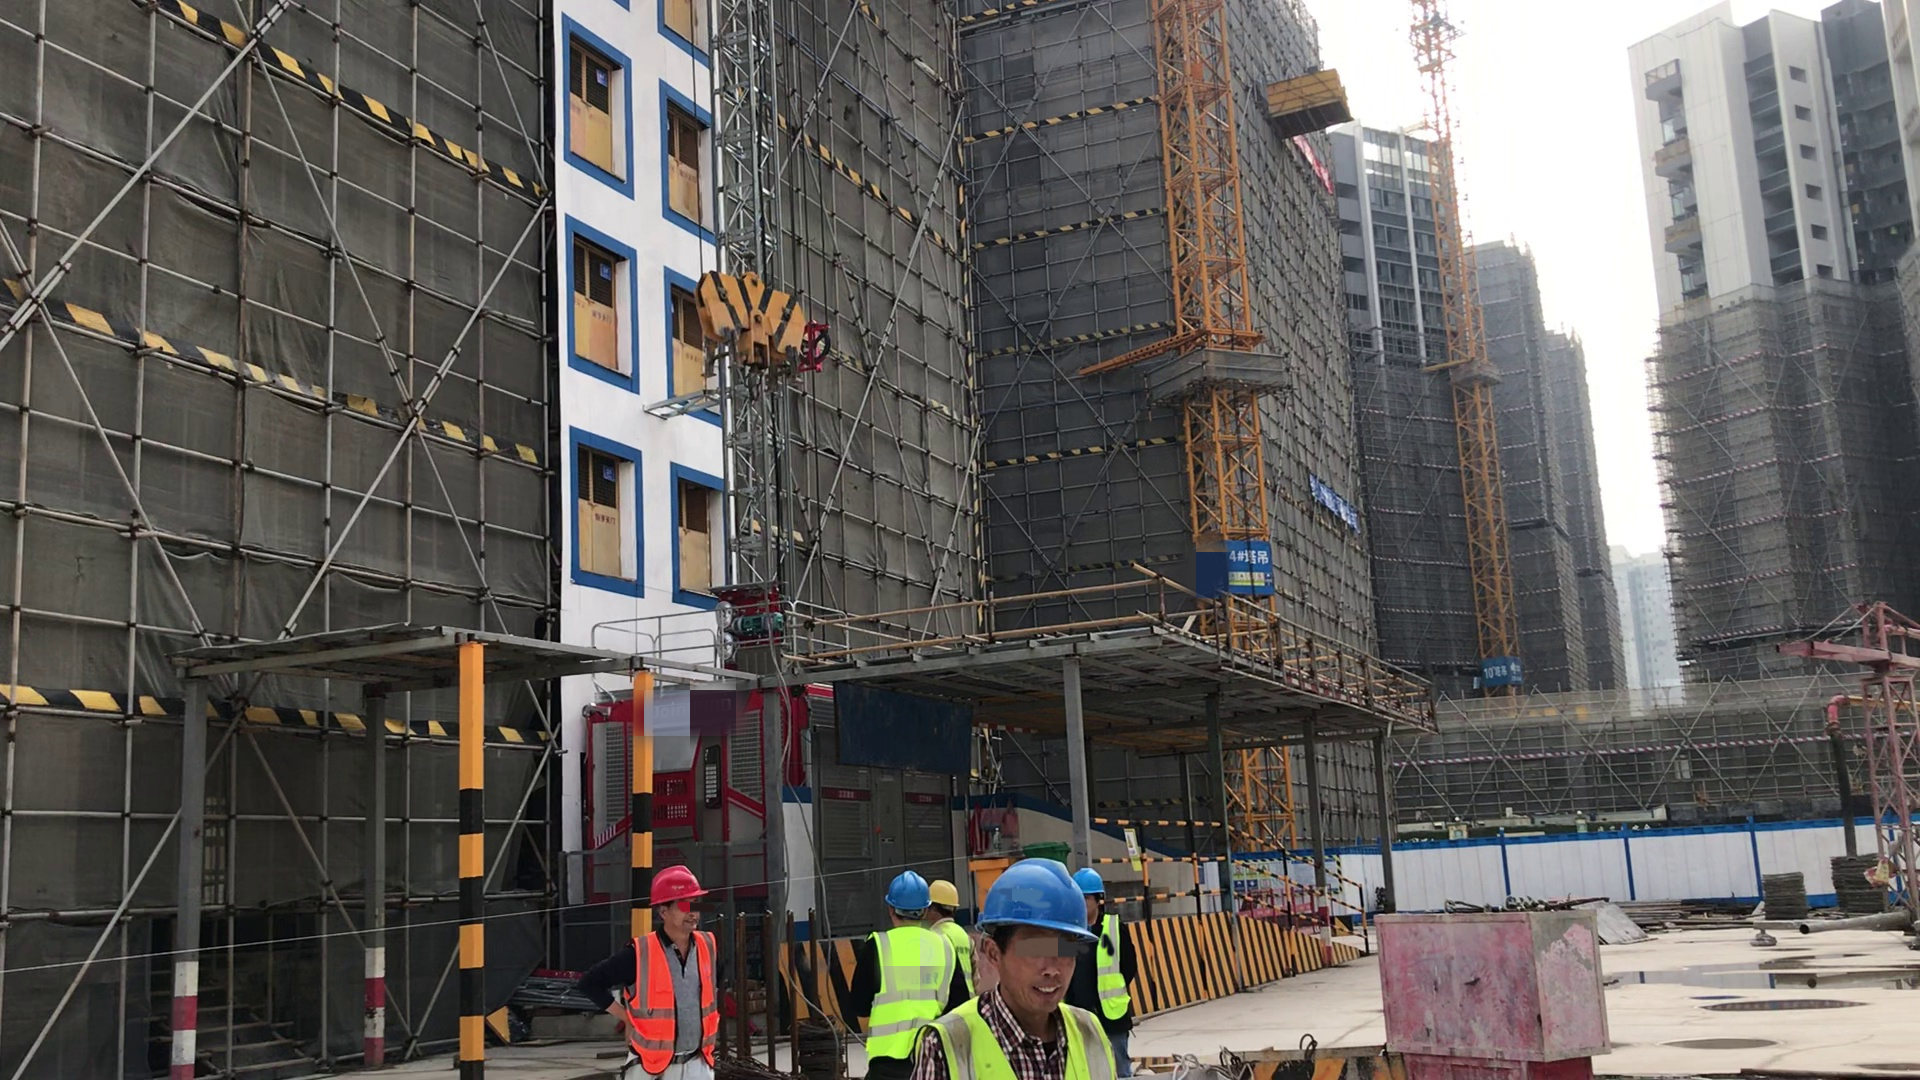fence: (1080, 789, 1399, 936)
helmet: (981, 856, 1094, 954), (641, 862, 721, 909), (882, 869, 939, 913), (929, 876, 962, 914), (1075, 869, 1112, 898)
hook: (686, 251, 845, 420)
person: (917, 859, 1115, 1080), (590, 861, 732, 1080), (851, 843, 954, 1065), (1071, 863, 1146, 1058), (920, 854, 978, 994)
vest: (926, 994, 1114, 1080), (625, 929, 725, 1070), (858, 919, 954, 1066), (1092, 922, 1139, 1027), (932, 915, 981, 989)
